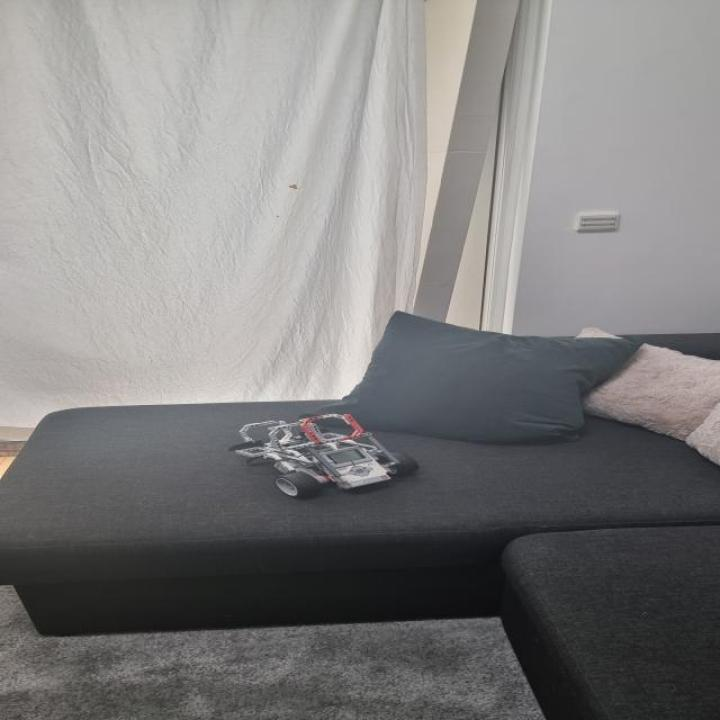robot: (229, 413, 418, 501)
